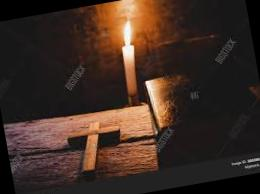Fire: (116, 16, 138, 50)
